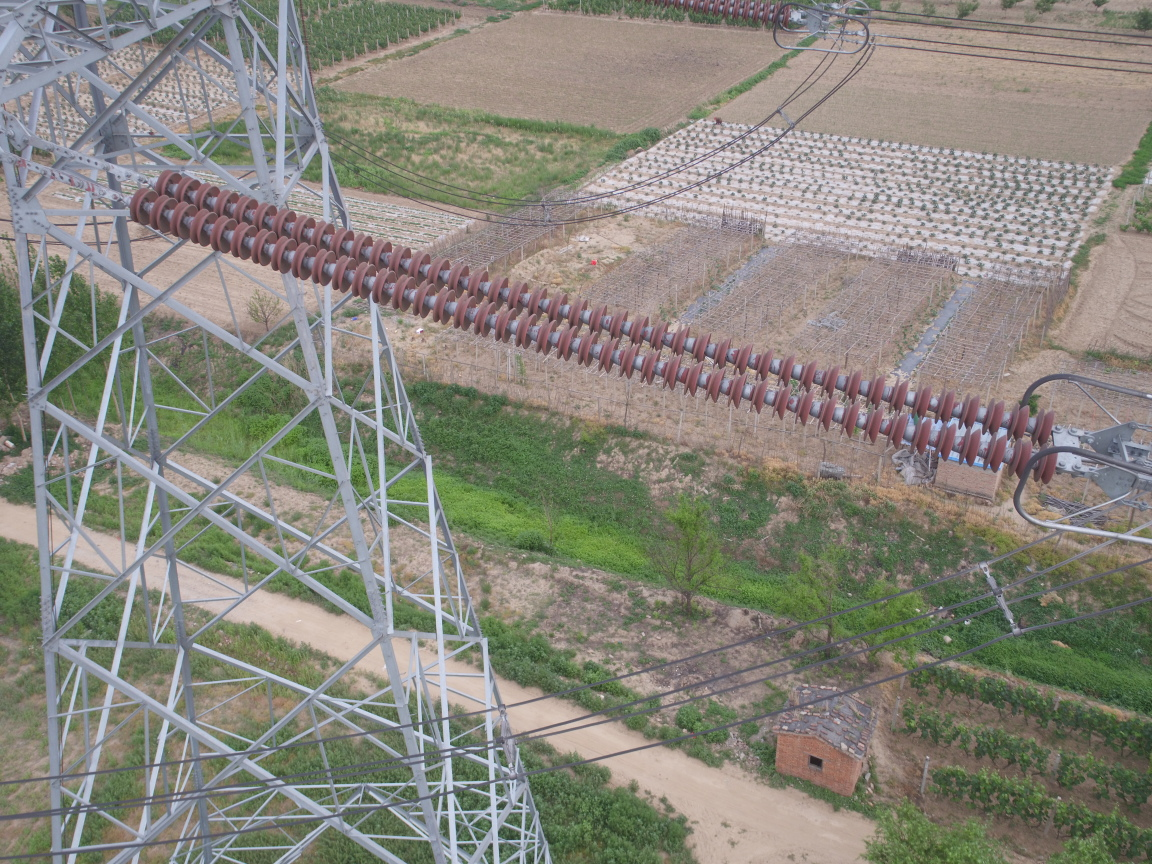insulator: (89, 158, 1107, 489)
